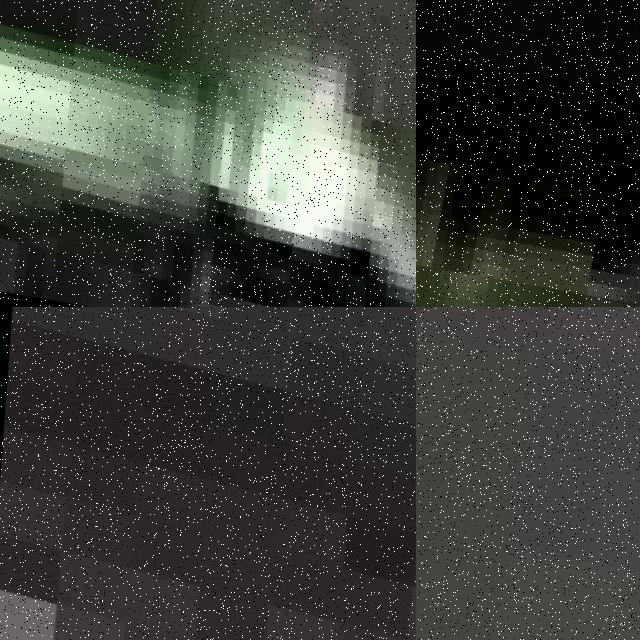0: (0, 0, 416, 307)
drone: (0, 307, 416, 640)
